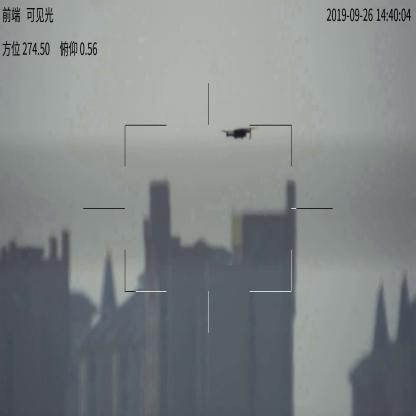uav: (216, 125, 254, 143)
